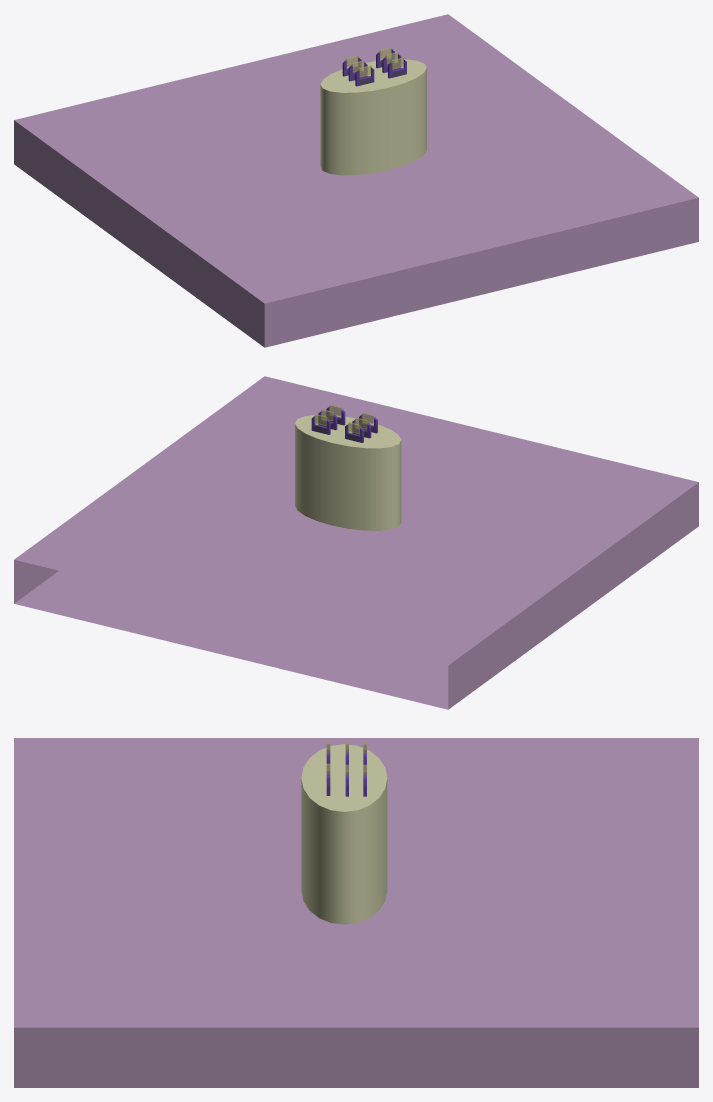
The model's file is 档案装置.fbx.
The picture shows the model from 3 angles, top to bottom: view 1: azimuth 30°, elevation 25°; view 2: azimuth 150°, elevation 25°; view 3: azimuth 270°, elevation 25°; orthographic projection. The views are drawn at different scales.
Parts seen in each view (by area): view 1: polySurface7, pCylinder35; view 2: polySurface7, pCylinder35; view 3: polySurface7, pCylinder35.
Part boxes in pixels (bbox=[...]): polySurface7: bbox=[14, 14, 698, 347]; pCylinder35: bbox=[320, 59, 426, 175]; polySurface7: bbox=[14, 376, 698, 709]; pCylinder35: bbox=[295, 415, 401, 530]; polySurface7: bbox=[14, 738, 698, 1087]; pCylinder35: bbox=[301, 744, 387, 924].
Bounding box in the file's own units: 10.1 × 3.19 × 10.1.
